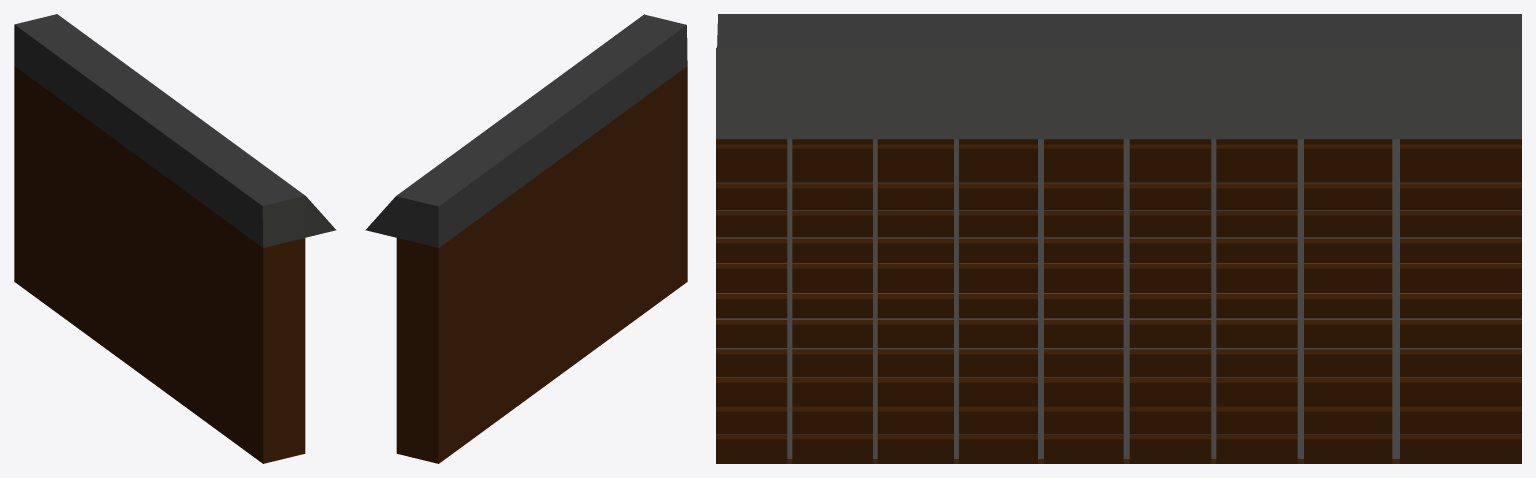
The model's file is muur.fbx.
3 renders of one model, left to right at view 1: azimuth 30°, elevation 25°; view 2: azimuth 150°, elevation 25°; view 3: azimuth 270°, elevation 25°, orthographic. The views are drawn at different scales.
Parts seen in each view (by area): view 1: Cube; view 2: Cube; view 3: Cube.
Part boxes in pixels (left/top/right/bottom): Cube: left=14, top=14, right=336, bottom=463; Cube: left=365, top=14, right=687, bottom=463; Cube: left=716, top=14, right=1521, bottom=463.
Bounding box in the file's own units: 349 × 1171 × 2051.
